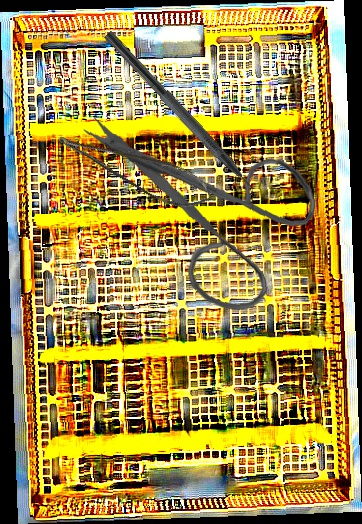Chopper: (92, 30, 271, 214)
Iris Scissors: (78, 99, 323, 321)
Micro Scissor: (54, 108, 218, 223)
